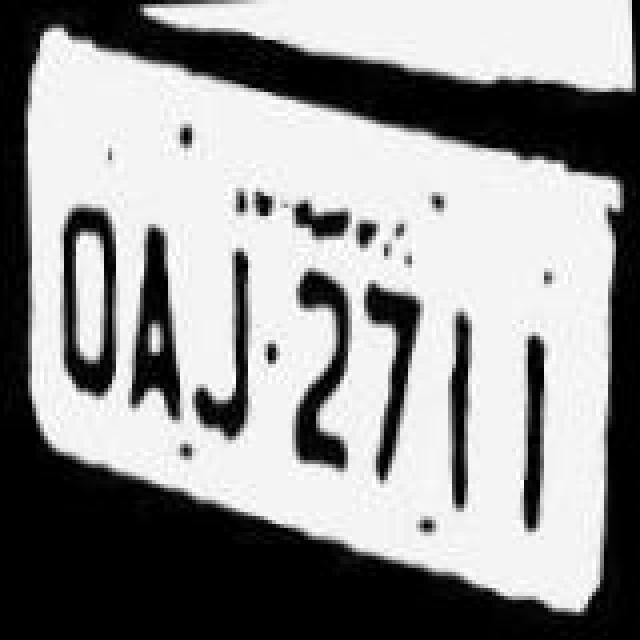1: (502, 298, 562, 562), (438, 276, 498, 524)
2: (278, 260, 358, 516)
7: (348, 266, 424, 522)
A: (114, 188, 190, 444)
J: (182, 232, 266, 452)
O: (46, 172, 130, 432)
